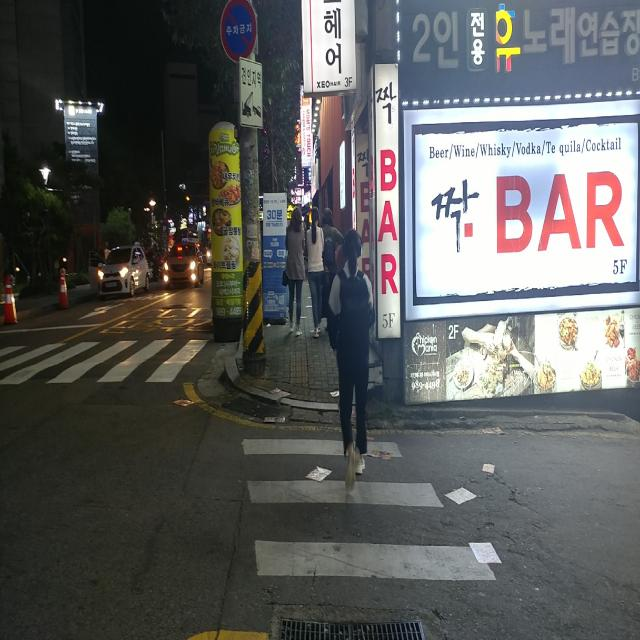횡단보도: (240, 438, 498, 584), (0, 328, 213, 398)
